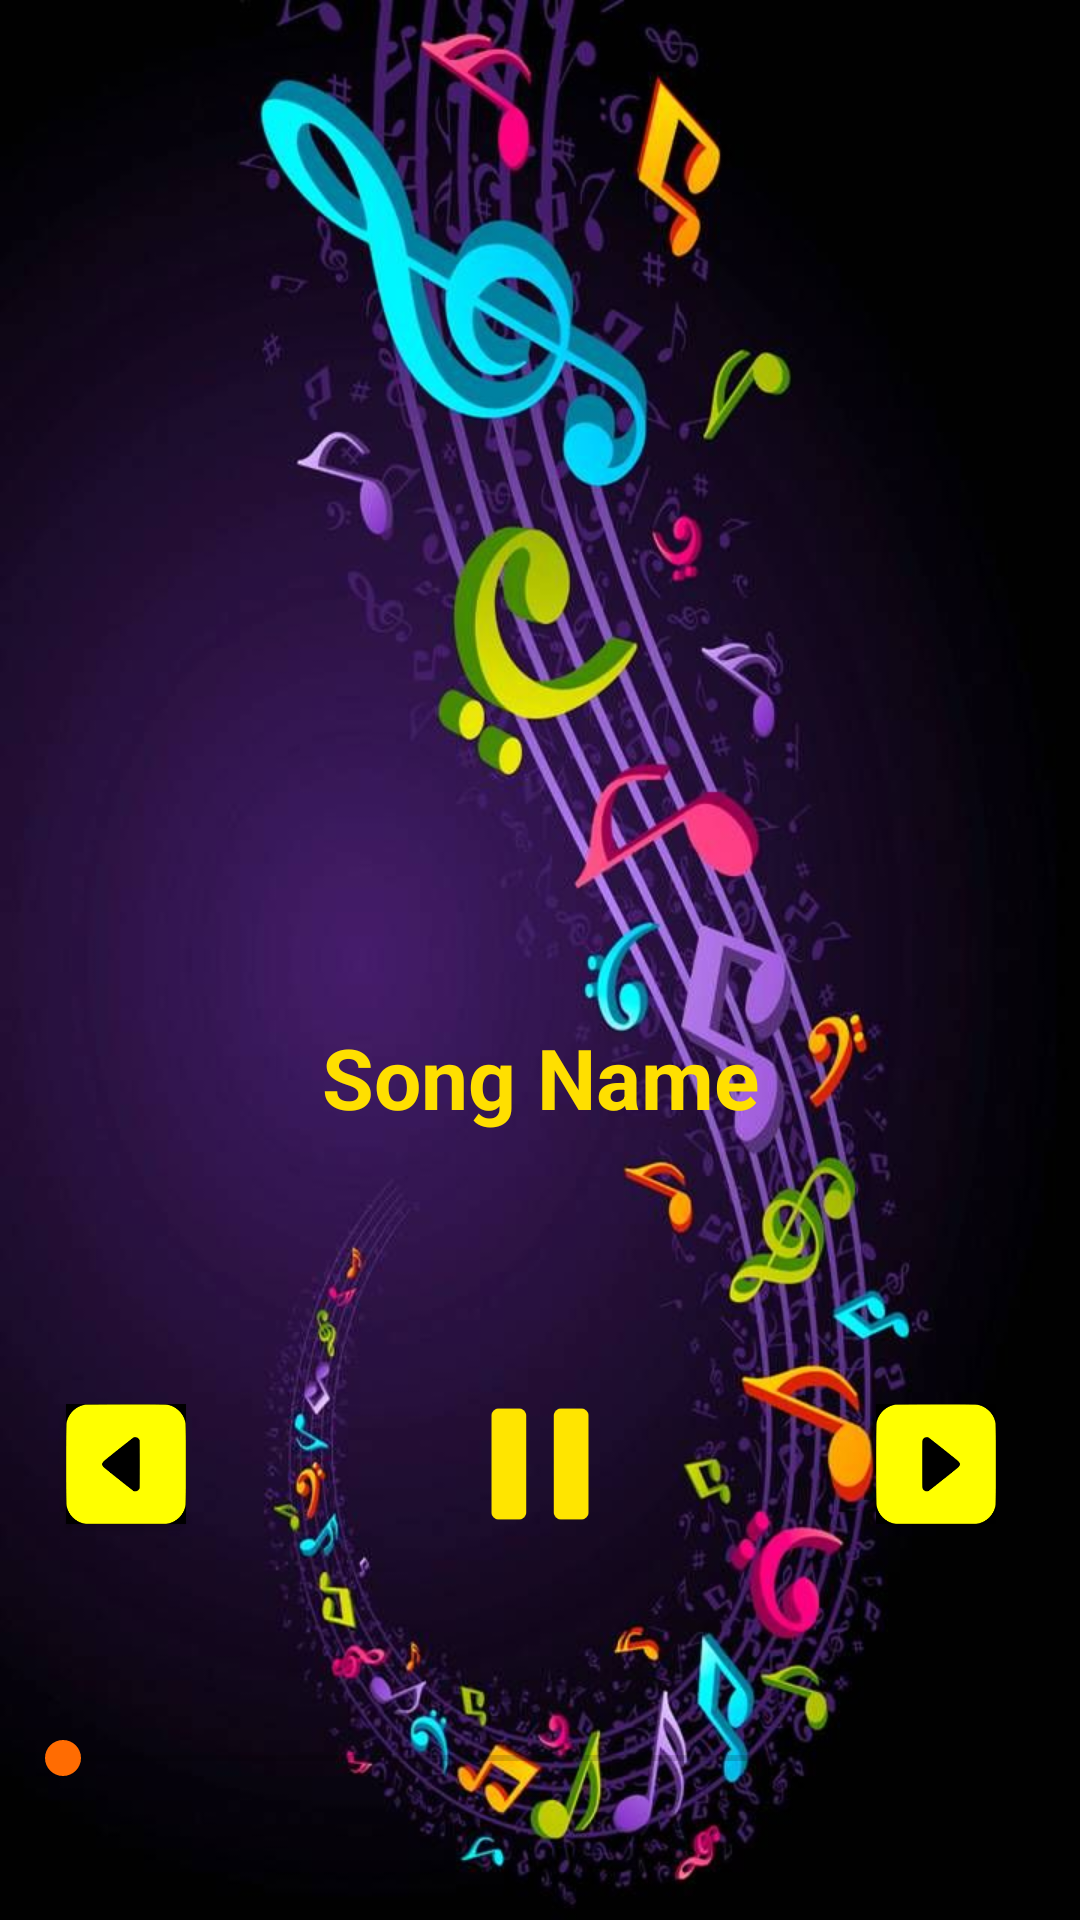

Screen size 1080 × 1920. Icon name, then its box in pixels as (x1, y1, x2, y2):
nextyy: (876, 1404, 996, 1524)
pausey: (491, 1408, 589, 1520)
previousy: (66, 1404, 186, 1524)
